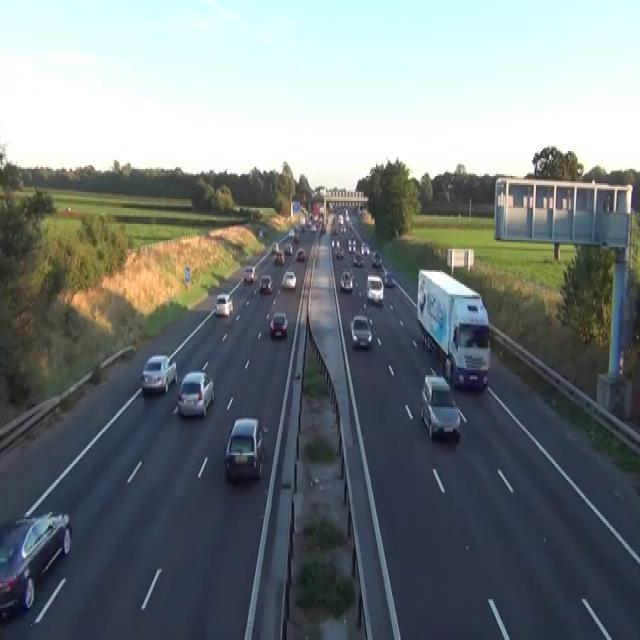Car: (0, 510, 72, 620), (224, 416, 268, 482), (420, 373, 460, 439), (177, 370, 214, 418), (140, 354, 177, 394), (350, 314, 372, 348), (366, 274, 383, 304), (269, 311, 287, 338), (214, 294, 233, 316), (339, 268, 353, 292), (281, 270, 296, 290), (258, 274, 273, 293), (243, 265, 255, 283), (383, 270, 395, 286), (274, 249, 284, 265), (353, 252, 364, 266), (296, 247, 306, 261), (348, 236, 356, 252), (372, 252, 381, 266), (284, 242, 293, 256), (360, 242, 370, 254), (331, 236, 340, 249), (380, 265, 387, 281), (335, 247, 344, 258), (271, 242, 278, 254), (300, 217, 306, 231), (292, 233, 300, 242), (338, 213, 343, 224), (348, 240, 353, 251), (310, 222, 316, 231), (340, 224, 346, 233), (344, 210, 349, 220), (288, 228, 294, 236), (317, 214, 323, 222), (321, 224, 326, 233), (258, 228, 262, 236)
Truck: (416, 268, 491, 389)
